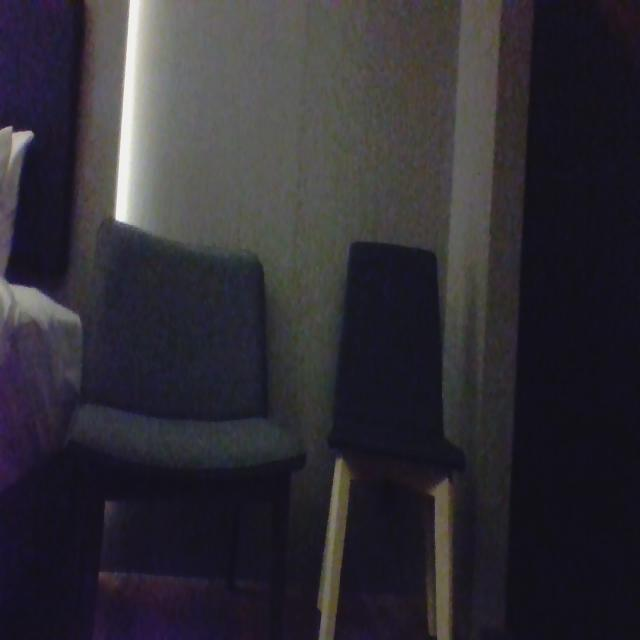empty: (97, 220, 271, 420), (336, 233, 444, 440)
